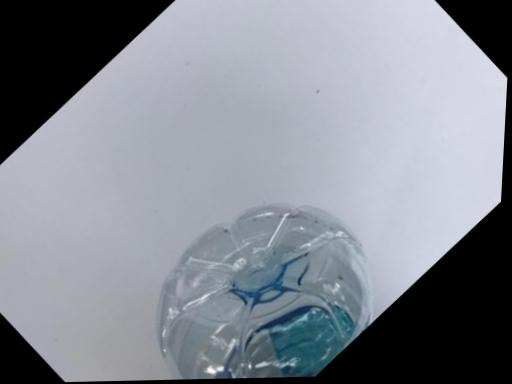plastic: (159, 204, 371, 378)
